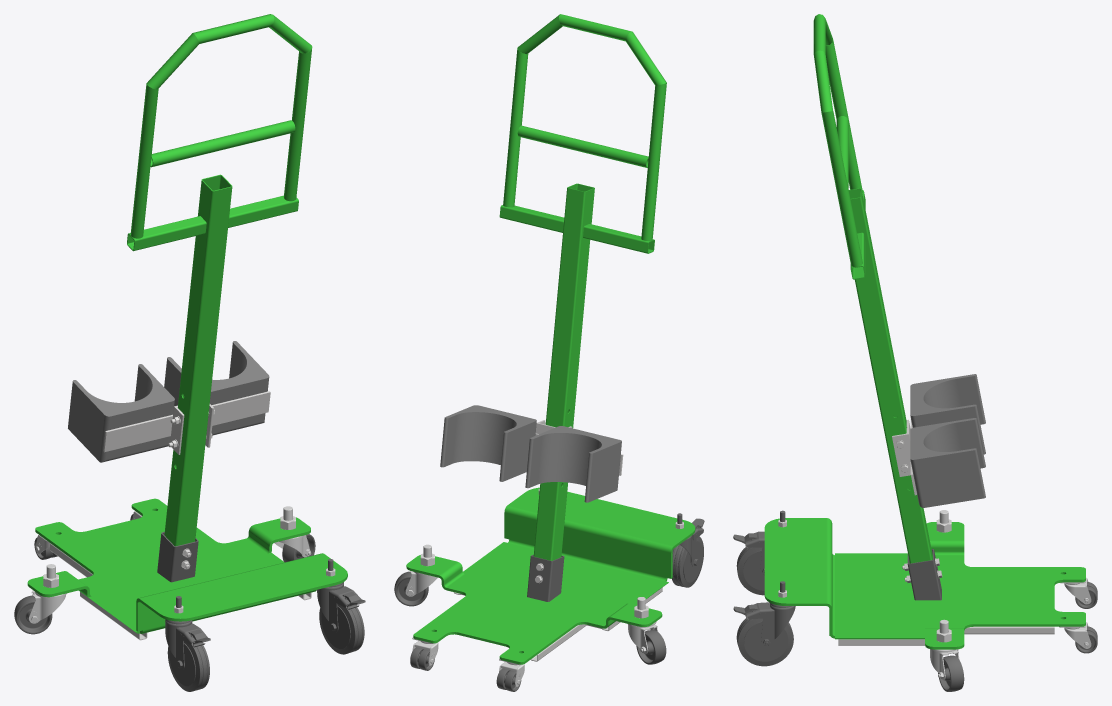
File: PLATAFORMA_DE_TRANSFERENCIA.glb
3 renders of one model, left to right at view 1: azimuth 30°, elevation 25°; view 2: azimuth 150°, elevation 25°; view 3: azimuth 270°, elevation 25°, orthographic. The views are drawn at different scales.
Visible parts, largest first — view 1: Solid1:5, Solid1:21, Solid1:34, Solid1:33, Solid1:36, Solid1:30, Solid1:35, Solid1:24, Solid1:29, Solid1:25, Solid1:22, Solid1:20 (+6 smaller); view 2: Solid1:5, Solid1:21, Solid1:34, Solid1:33, Solid1:24, Solid1:25, Solid1:29, Solid1:35, Solid1:20, Solid1:22, Solid1:23, Solid1:27 (+6 smaller); view 3: Solid1:5, Solid1:21, Solid1:33, Solid1:34, Solid1:36, Solid1:25, Solid1:35, Solid1:24, Solid1:20, Solid1:4, Solid1:28, Solid1:17 (+3 smaller).
Part boxes in pixels (x1,y1,x2,y2): Solid1:5: (27, 498, 347, 633); Solid1:21: (164, 174, 232, 546); Solid1:34: (68, 364, 174, 462); Solid1:33: (164, 341, 269, 435); Solid1:36: (317, 559, 365, 654); Solid1:30: (103, 391, 270, 452); Solid1:35: (165, 596, 210, 691); Solid1:24: (130, 83, 158, 238); Solid1:29: (150, 120, 295, 167); Solid1:25: (284, 45, 312, 201); Solid1:22: (127, 216, 206, 251); Solid1:20: (157, 532, 198, 582); Solid1:5: (406, 487, 695, 664); Solid1:21: (533, 183, 594, 560); Solid1:34: (525, 426, 621, 502); Solid1:33: (440, 405, 536, 481); Solid1:24: (641, 83, 666, 240); Solid1:25: (503, 47, 528, 207); Solid1:29: (517, 125, 648, 167); Solid1:35: (671, 513, 704, 587); Solid1:20: (527, 555, 564, 601); Solid1:22: (583, 224, 654, 253); Solid1:23: (499, 205, 564, 232); Solid1:27: (559, 14, 631, 41); Solid1:5: (764, 518, 1085, 649); Solid1:21: (848, 188, 932, 563); Solid1:33: (910, 418, 985, 507); Solid1:34: (910, 374, 985, 454); Solid1:36: (733, 581, 795, 666); Solid1:25: (821, 111, 862, 266); Solid1:35: (733, 510, 785, 595); Solid1:24: (825, 39, 862, 192); Solid1:20: (907, 549, 941, 600); Solid1:4: (964, 626, 1054, 634); Solid1:28: (814, 50, 832, 112); Solid1:17: (938, 655, 964, 691).
Size of the model in its own units: 0.5103 by 1.02 by 0.5666.
